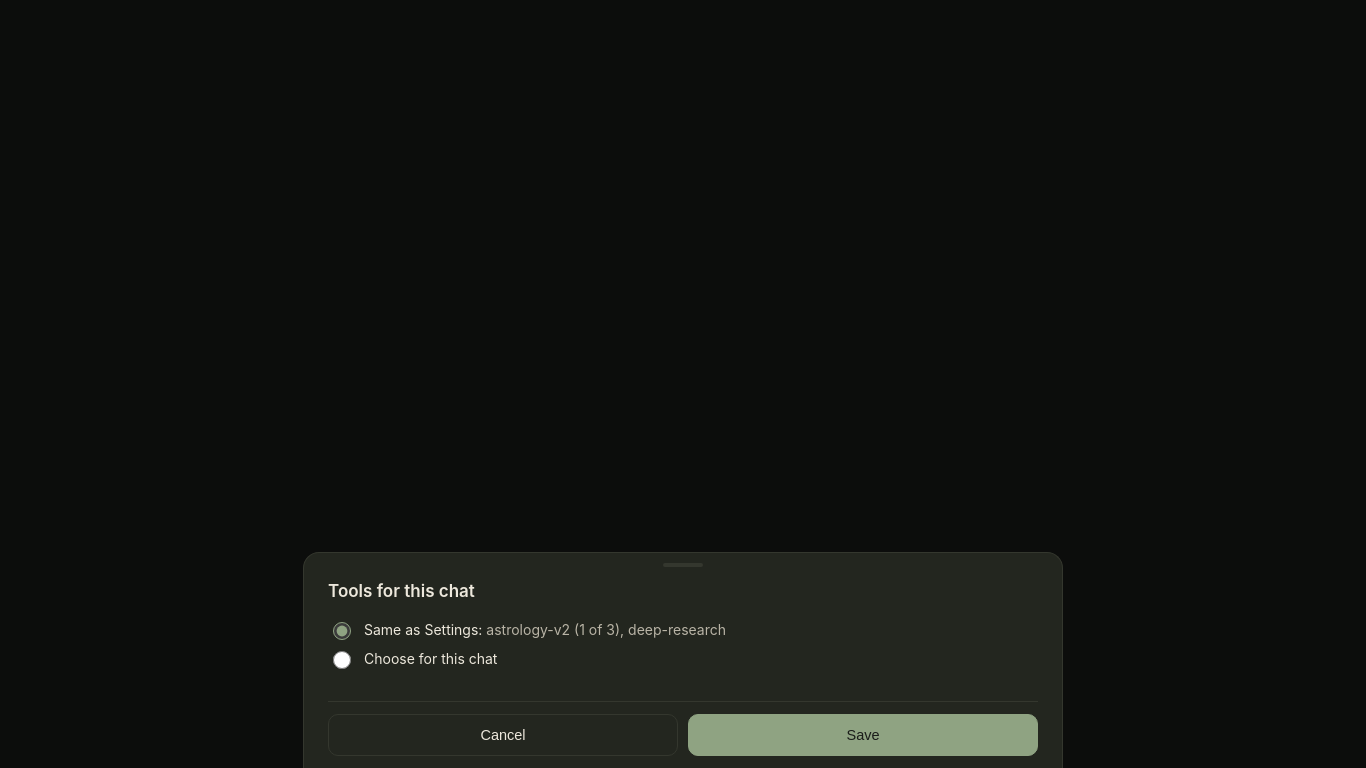
Test: ToolPicker › lists every server and tool the servers reported, with the inherited ones ticked
Click the radio button labelled "Choose for this chat". click: (342, 660)
box: [333,651,351,669]
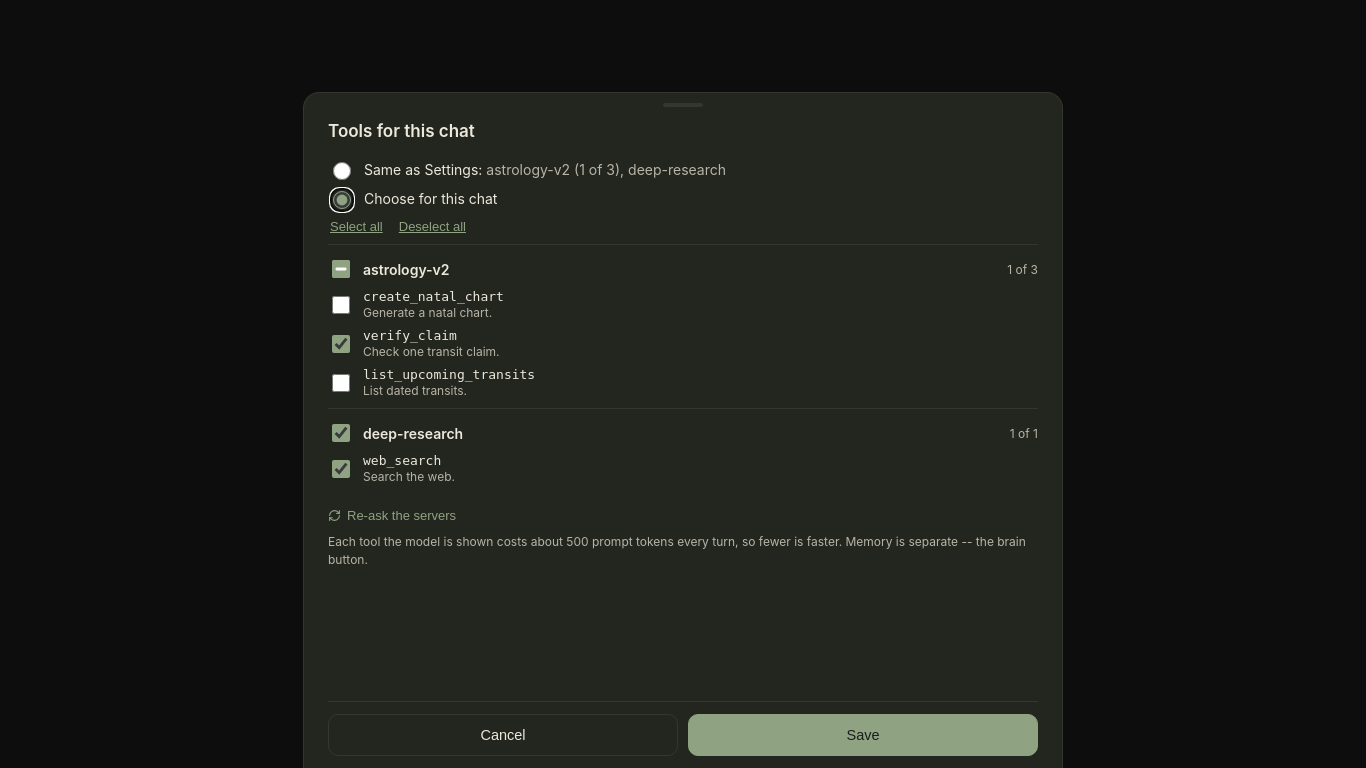
Check: the text "1 of 3" is shown, box [1007,262,1038,277]
Check: the checkbox labelled "verify_claim Check one transit claim." is checked, box [332,335,350,353]
Check: the checkbox labelled "create_natal_chart Generate a natal chart." is not checked, box [332,296,350,314]
